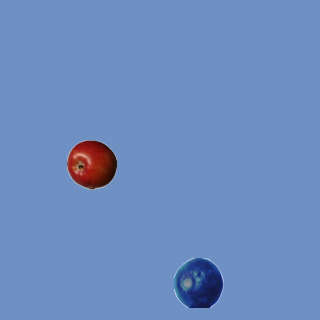Apple Braeburn: (66, 139, 116, 189)
Huckleberry: (173, 257, 223, 307)
